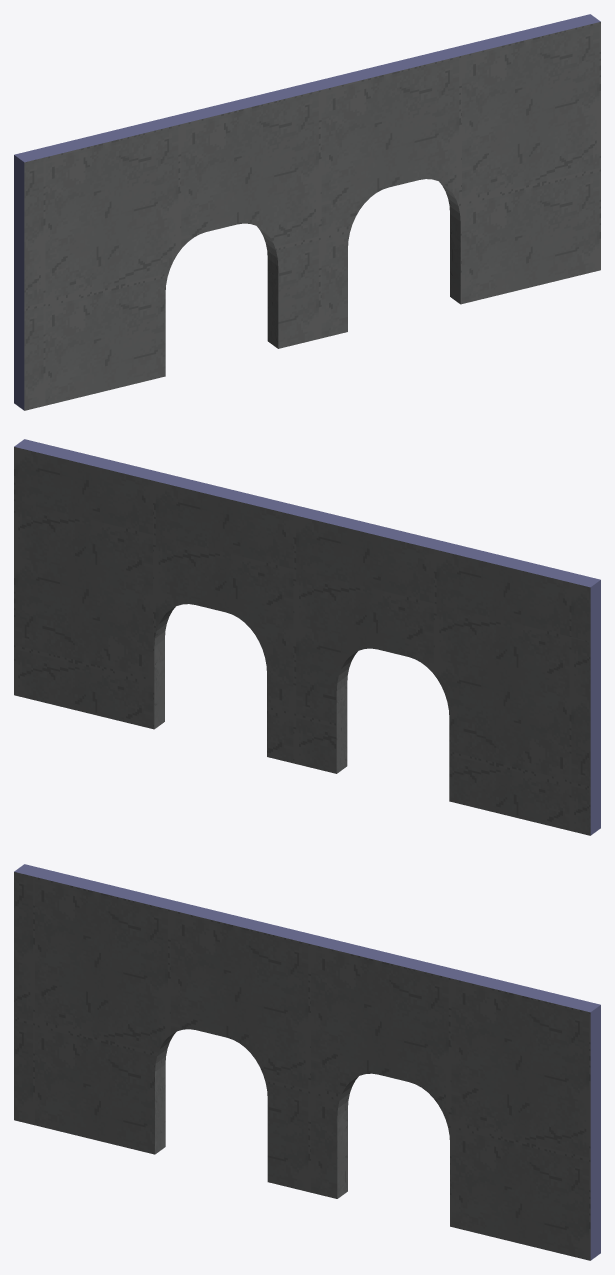
Rendered from Entrance.fbx.
3 renders of one model, top to bottom at view 1: azimuth 30°, elevation 25°; view 2: azimuth 150°, elevation 25°; view 3: azimuth 330°, elevation 25°, orthographic.
Parts seen in each view (by area): view 1: Entrance; view 2: Entrance; view 3: Entrance.
Part boxes in pixels (x1,y1,x2,y2): Entrance: (14,14,600,410); Entrance: (14,439,600,835); Entrance: (14,864,600,1260).
Bounding box in the file's own units: 6343 × 2613 × 200.
1 material, 1 textured.
